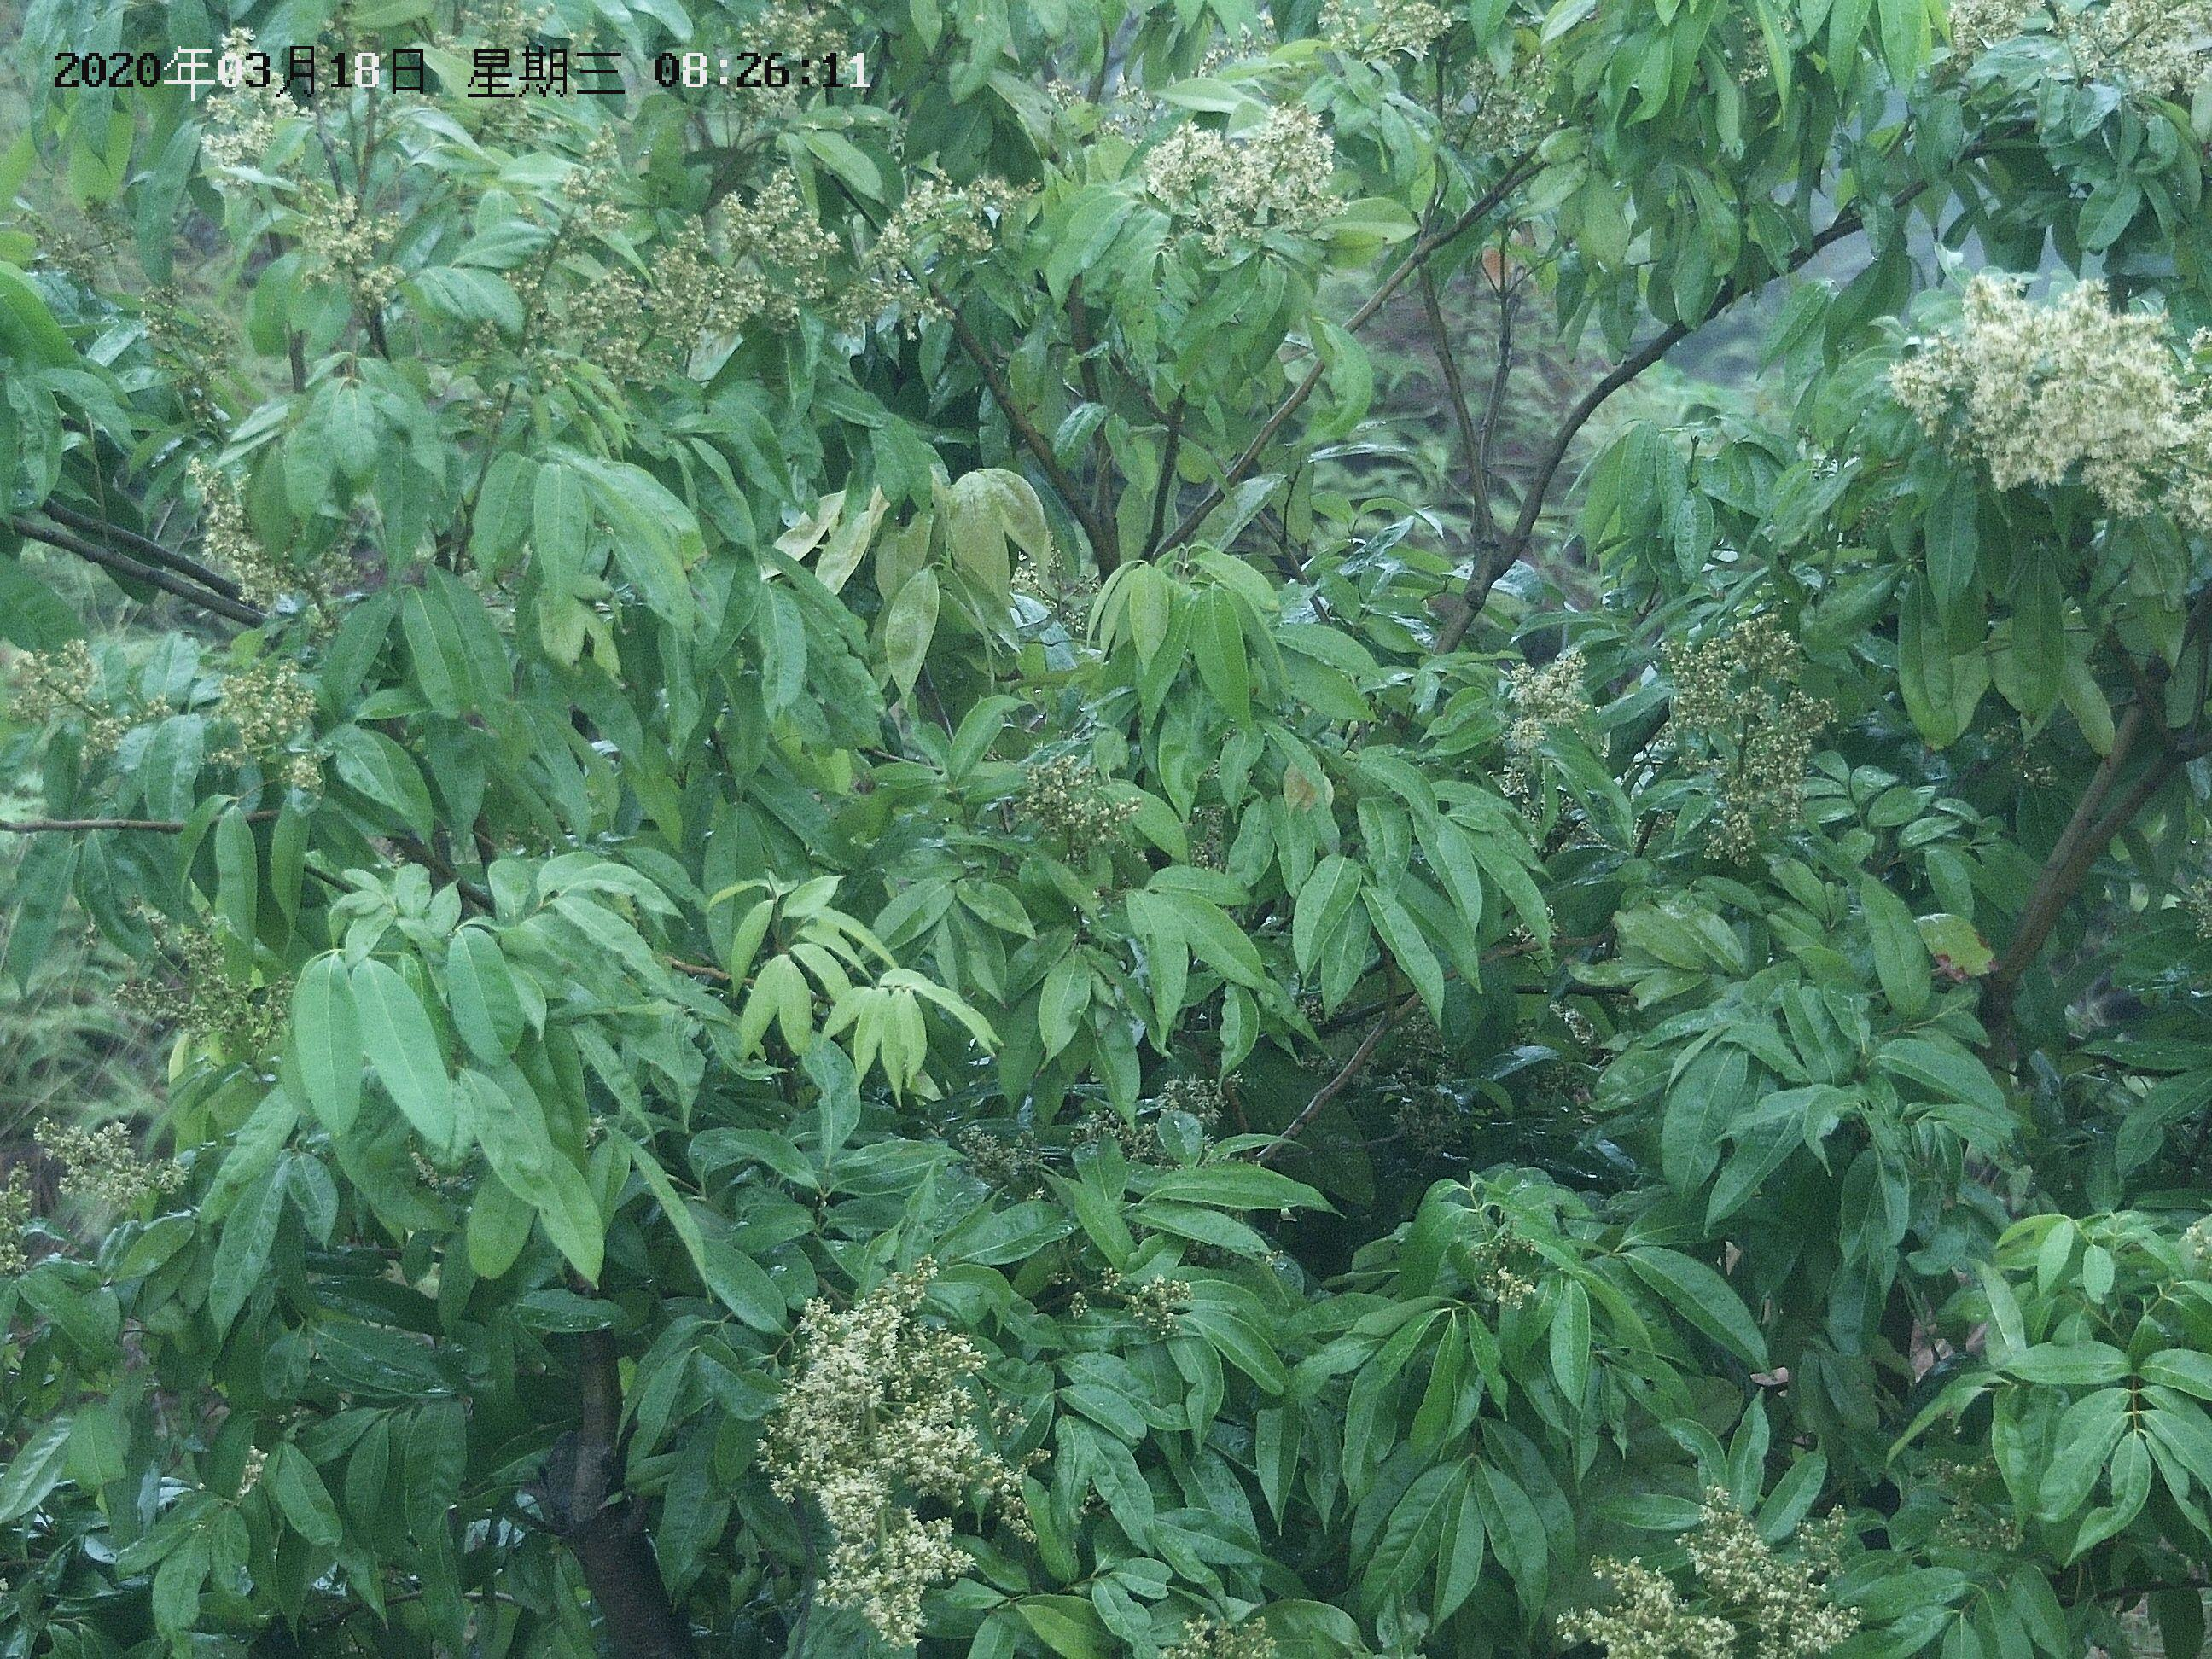开花始期: (1648, 613, 1843, 852), (475, 120, 622, 394), (826, 173, 1038, 336), (118, 903, 305, 1073), (676, 167, 840, 343), (611, 214, 711, 387), (1000, 746, 1139, 868), (1008, 533, 1101, 641), (1926, 1453, 2020, 1558), (1066, 1263, 1191, 1338), (1472, 1220, 1541, 1312)
开花盛期: (756, 1267, 1026, 1649), (1879, 270, 2212, 514), (1548, 1478, 1874, 1659), (1136, 112, 1353, 256), (14, 1108, 202, 1213), (1482, 643, 1608, 791), (185, 28, 300, 160), (287, 176, 402, 305), (192, 460, 287, 613), (7, 638, 131, 753), (2059, 0, 2212, 92), (216, 660, 317, 788), (1318, 0, 1453, 64), (1456, 63, 1548, 143), (1946, 0, 2043, 54)
